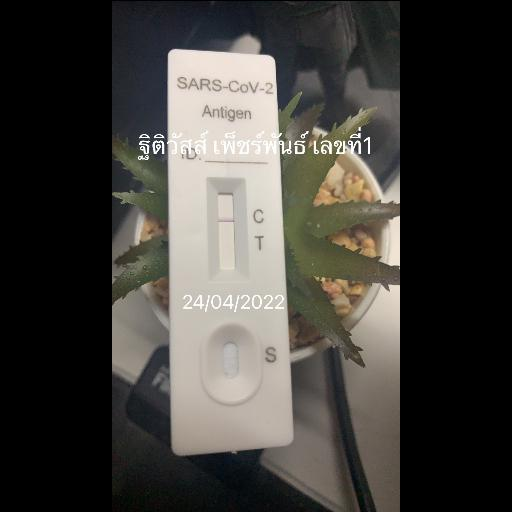Neg: (165, 47, 296, 458)
